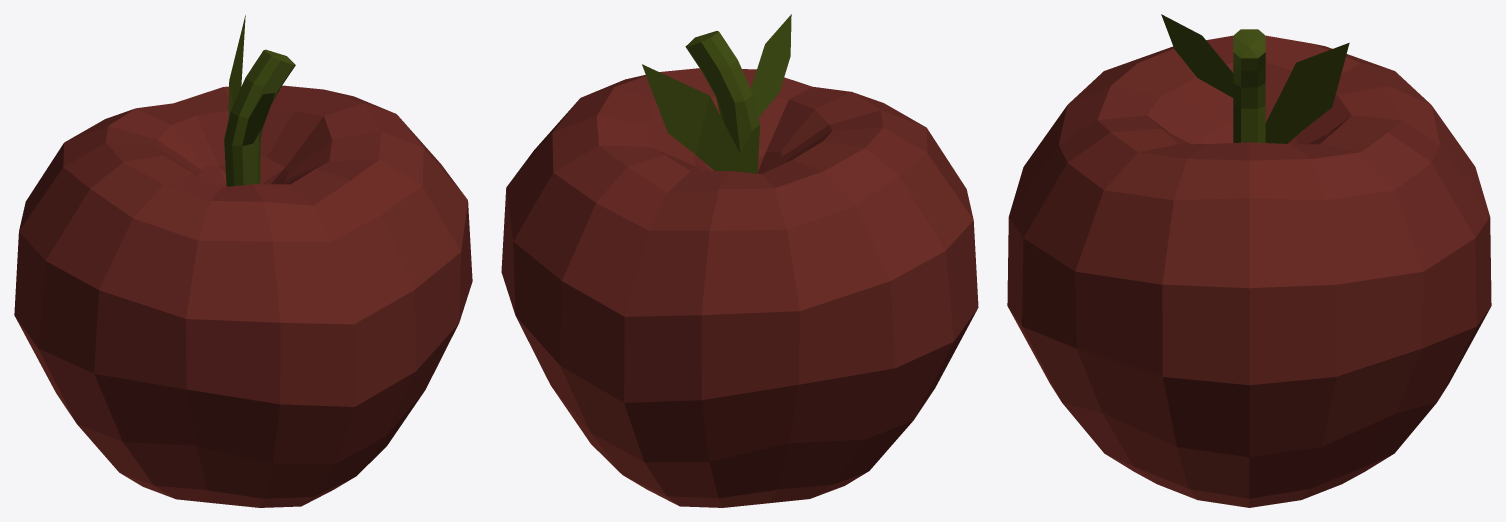
File: apple.fbx
3 views of the same model, side by side, from view 1: azimuth 30°, elevation 25°; view 2: azimuth 150°, elevation 25°; view 3: azimuth 270°, elevation 25° (orthographic). The views are drawn at different scales.
Visible parts, largest first — view 1: apple; view 2: apple; view 3: apple.
Part boxes in pixels (x1,y1,x2,y2): apple: [14, 15, 472, 507]; apple: [501, 14, 978, 507]; apple: [1007, 14, 1491, 507].
Bounding box in the file's own units: 42.05 × 40.53 × 39.47.
